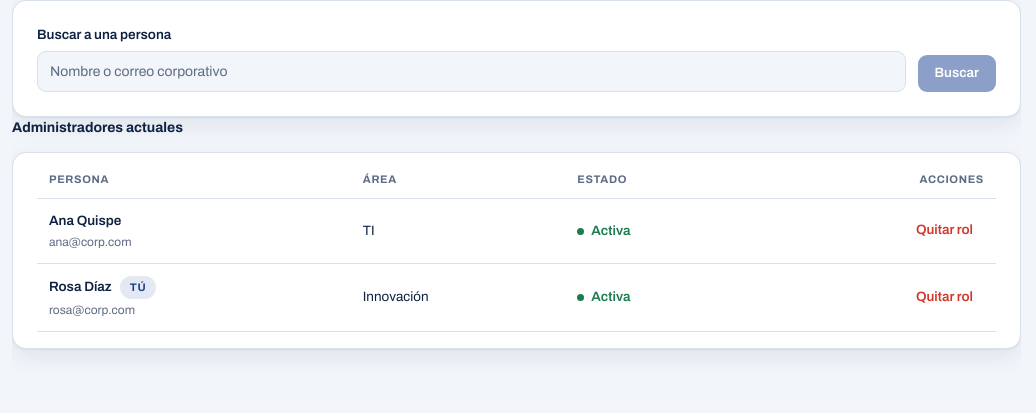
<AdministradoresAdmin /> — la búsqueda › muestra el mensaje del servidor cuando la búsqueda falla
Type "beto" into the field labelled "Buscar a una persona" at (471, 72), box top-left (37, 51), bottom-right (906, 92)
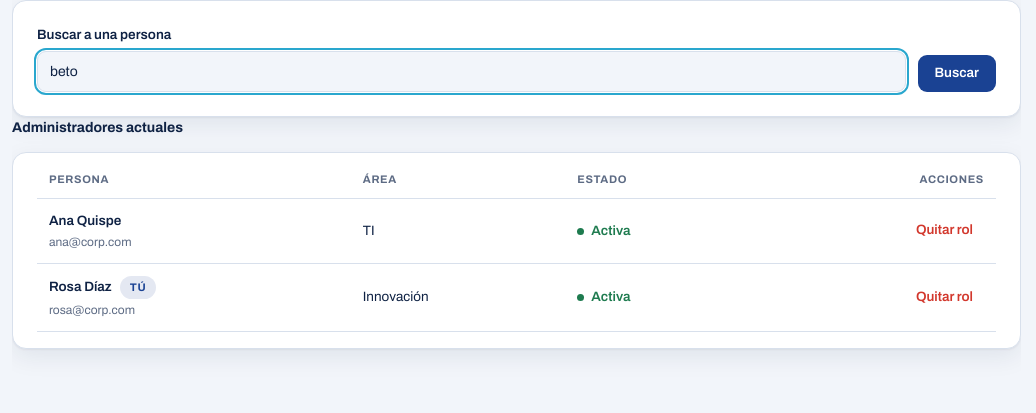
Click the button "Buscar" at (957, 74), box top-left (918, 55), bottom-right (996, 92)
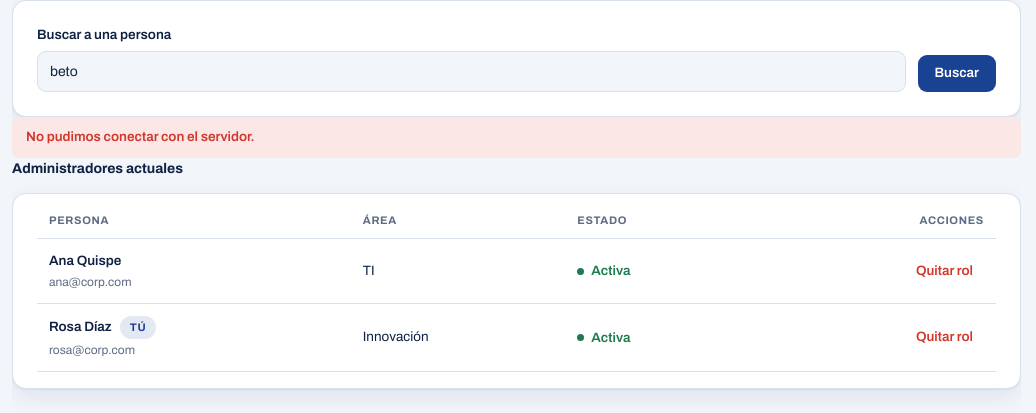
Check: the message reads "No pudimos conectar con el servidor.", box top-left (26, 129), bottom-right (254, 144)
